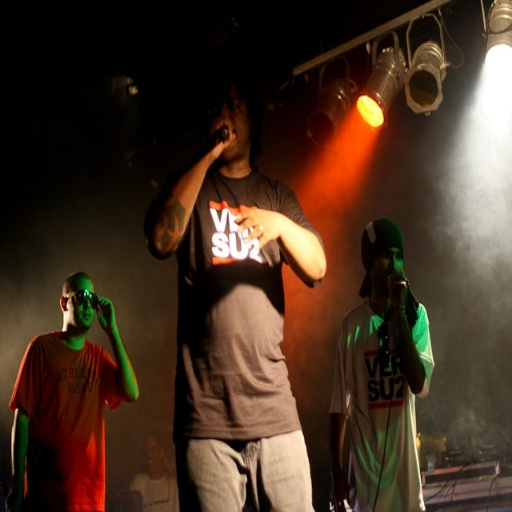hand: (230, 203, 284, 252), (212, 115, 237, 159), (92, 290, 115, 335), (385, 273, 409, 306), (328, 473, 347, 509), (4, 483, 25, 509), (161, 449, 174, 477)
